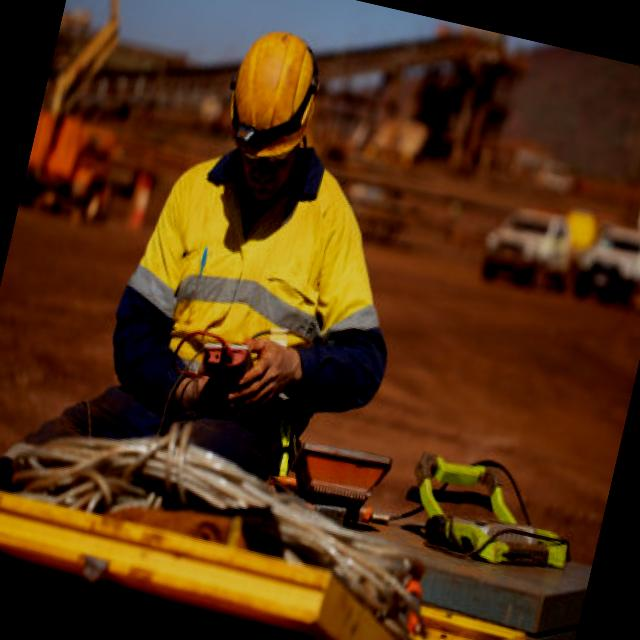helmet: (223, 15, 332, 168)
no-vest: (125, 128, 406, 396)
